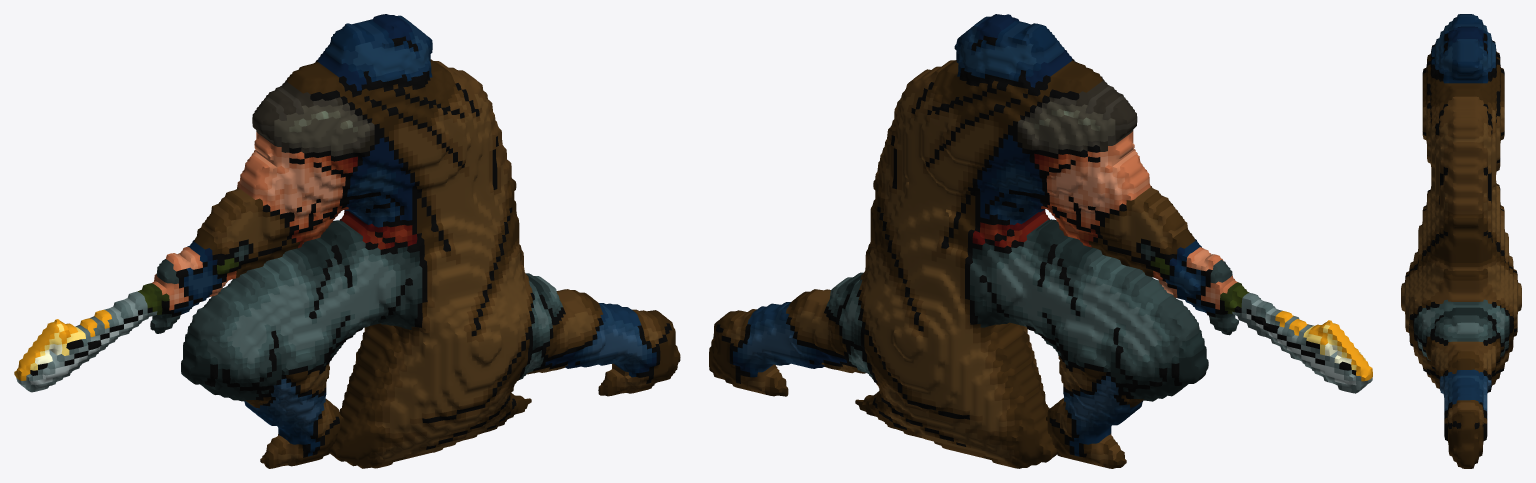
File: Fight_713_2_06.obj
The picture shows the model from 3 angles, left to right: view 1: azimuth 30°, elevation 25°; view 2: azimuth 150°, elevation 25°; view 3: azimuth 270°, elevation 25°; orthographic projection. The views are drawn at different scales.
Size of the model in its own units: 13.8 by 8.8 by 2.8.
1 material, 1 textured.
